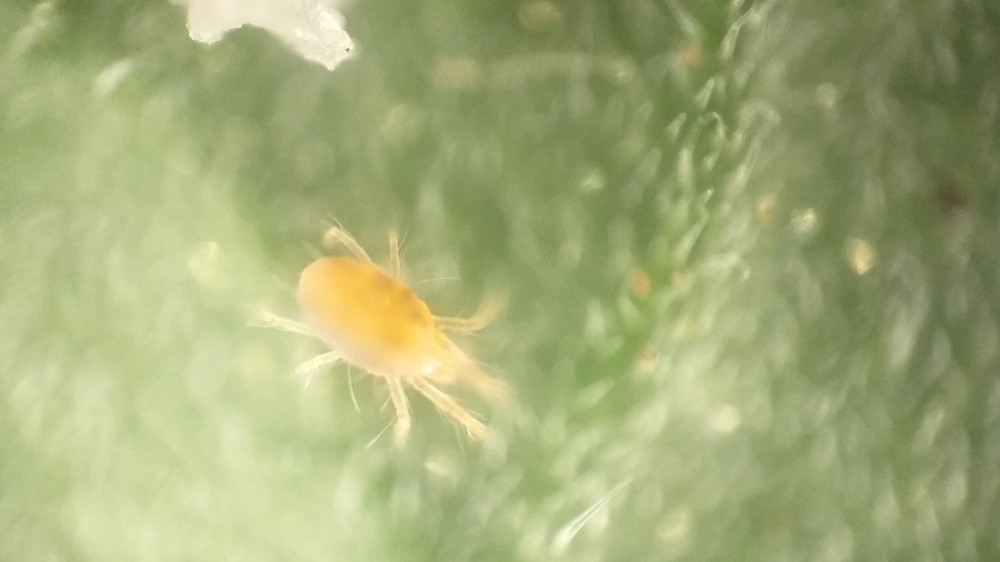Aracnido Rojo: (242, 214, 548, 472)
